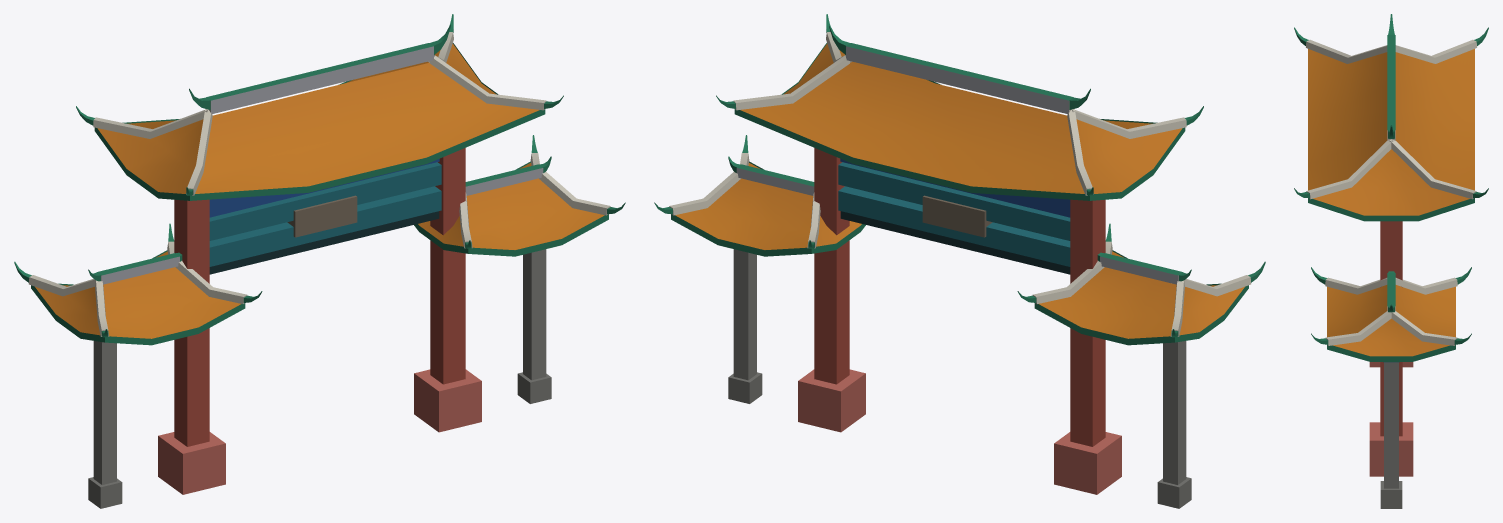
The picture shows the model from 3 angles, left to right: view 1: azimuth 30°, elevation 25°; view 2: azimuth 150°, elevation 25°; view 3: azimuth 270°, elevation 25°; orthographic projection. The views are drawn at different scales.
Parts seen in each view (by area): view 1: carpenter-street-harmony-arch-lod1; view 2: carpenter-street-harmony-arch-lod1; view 3: carpenter-street-harmony-arch-lod1.
Boxes of the visible parts, x1=… form: carpenter-street-harmony-arch-lod1: x1=14, y1=14, x2=625, y2=508; carpenter-street-harmony-arch-lod1: x1=654, y1=14, x2=1265, y2=508; carpenter-street-harmony-arch-lod1: x1=1294, y1=14, x2=1488, y2=508.
Size of the model in its own units: 12.59 by 9.08 by 4.67.
